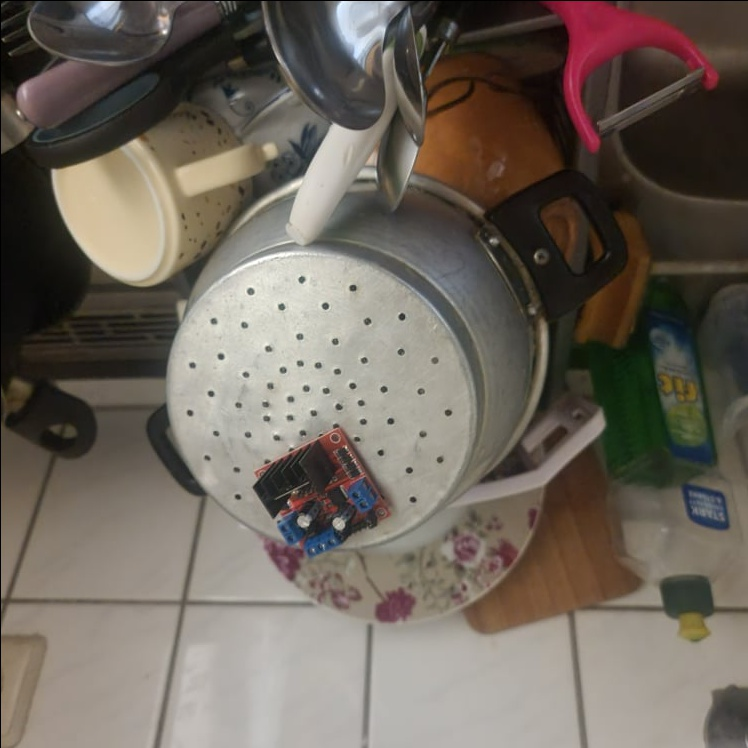MOTOR: (248, 422, 391, 557)
